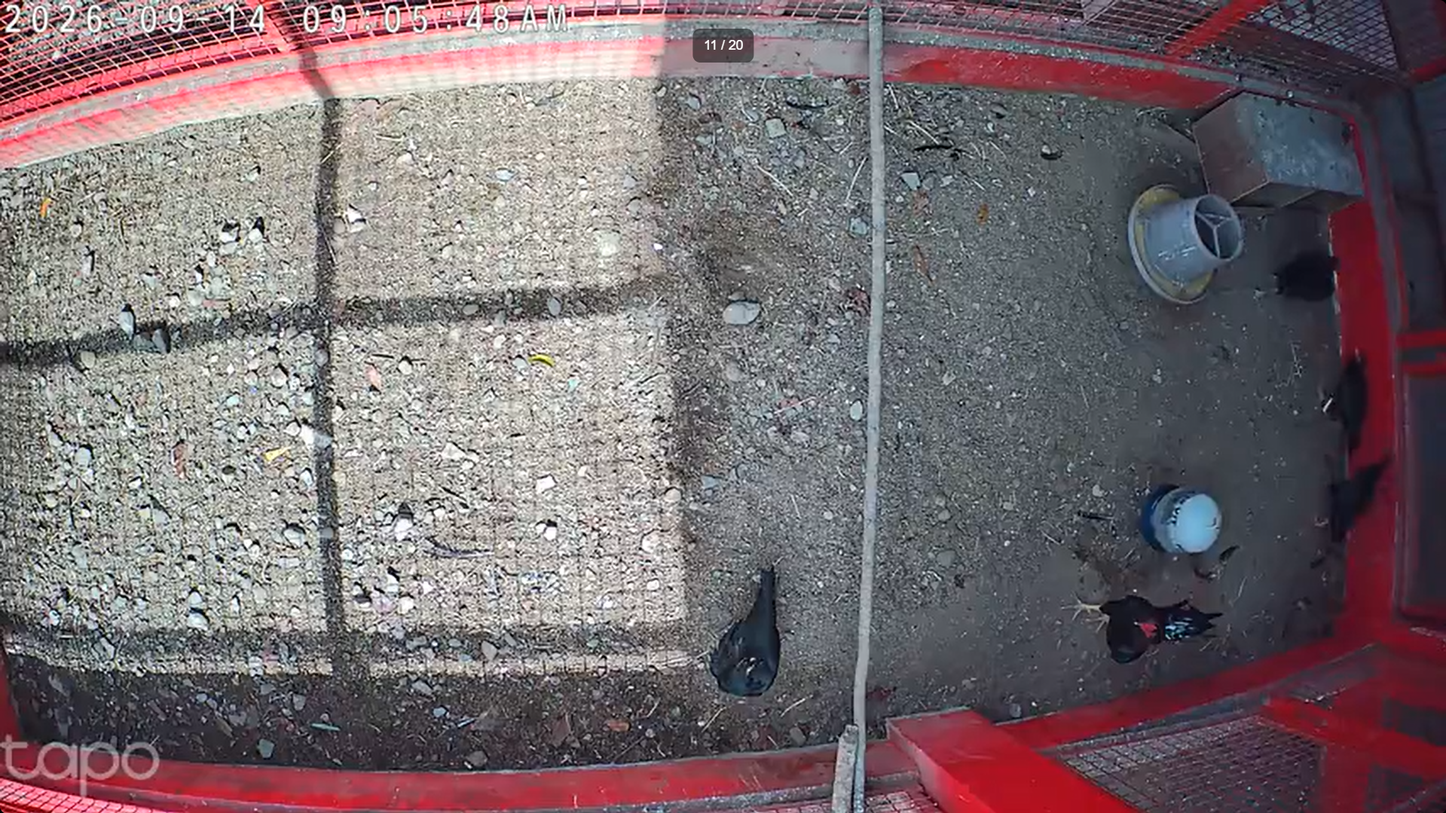Chicken: (704, 562, 787, 701)
Rooster: (1056, 585, 1227, 667)
